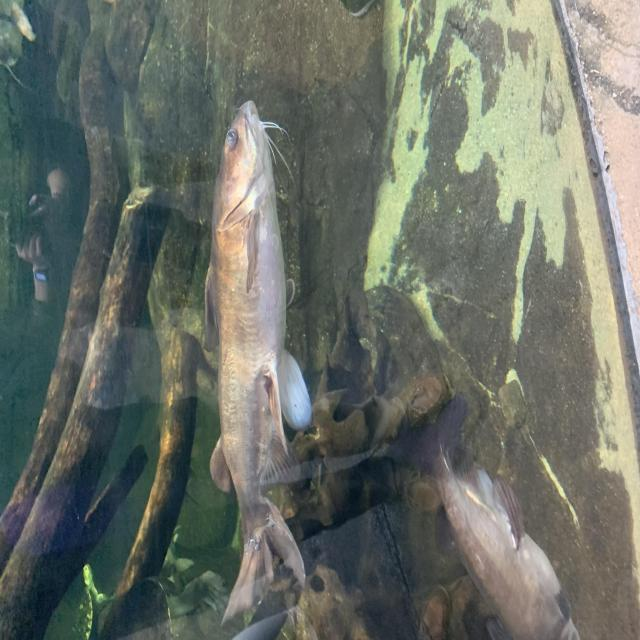fish: (203, 99, 312, 627), (410, 391, 582, 640)
